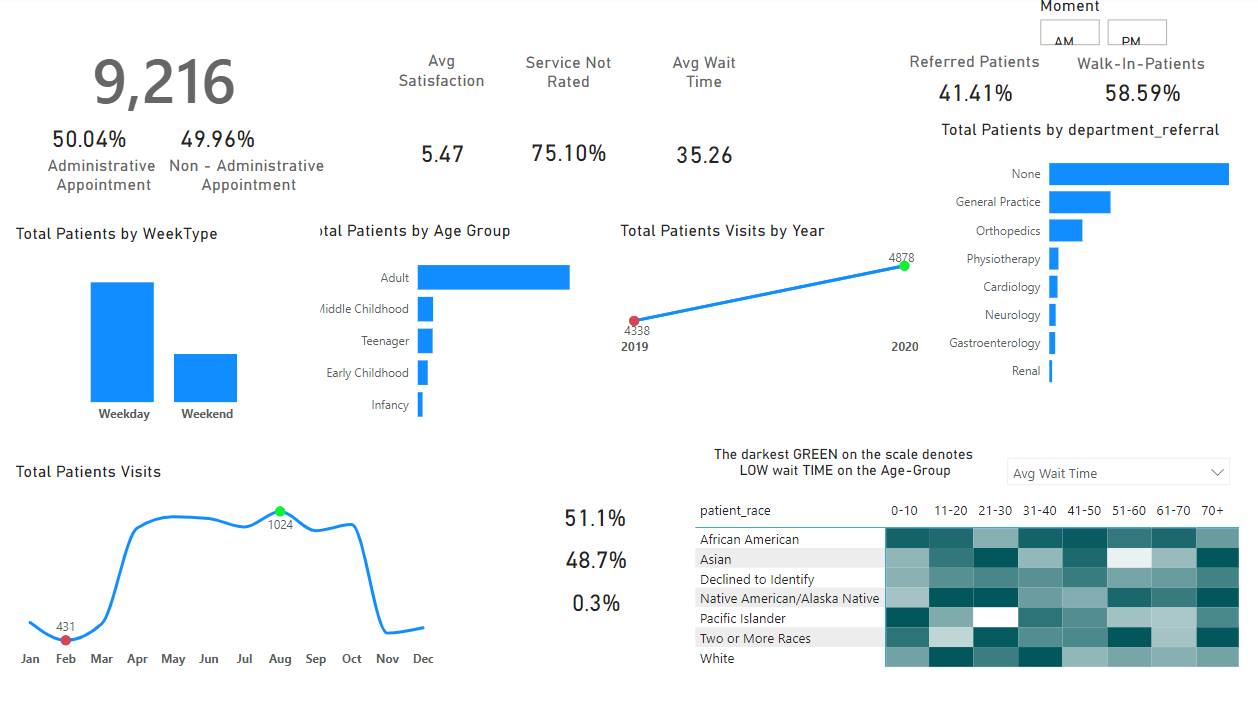

What the dashboard file says about the page in this screenshot:
{"tool":"powerbi","page":{"name":"Patients Emergency Room Visit Report","canvas":[1280,720],"ordinal":0},"visuals":[{"type":"card","fields":{"Values":["Calculations Table.Total Patients"]},"box":[80.3,56,262,113.6],"z":0},{"type":"card","fields":{"Values":["Calculations Table.% Non - Administrative Schedule"]},"box":[243.8,137.8,118.1,48.5],"z":1000},{"type":"card","fields":{"Values":["Calculations Table.% Administrative Schedule"]},"box":[65.1,137.8,121.1,48.5],"z":2000},{"type":"pivotTable","fields":{"Values":["Calculations Table.Average Satisfaction Score"],"Rows":["Patient Dataset.patient_race"],"Columns":["Patient Dataset.Age Bucket"]},"box":[705.6,481.5,573.9,228.6],"z":3000},{"type":"slicer","fields":{"Values":["Avg SAT Score/ Wait Time Parameter.Avg SAT Score/ Wait Time Parameter"]},"box":[1059.9,427,196.8,46.9],"z":4000},{"type":"clusteredBarChart","fields":{"Category":["Patient Dataset.Age Group"],"Y":["Calculations Table.Total Patients"]},"box":[274.1,266.5,278.6,177.2],"z":5000},{"type":"lineChart","title":"Total Patients Visits","fields":{"Category":["Date.Month"],"Y":["Calculations Table.Total Patients","Calculations Table.Value Max_Min Line"]},"box":[39.4,481.5,437.6,218],"z":6000},{"type":"advancedSlicerVisual","fields":{"Values":["Patient Dataset.Moment"]},"box":[1019.1,0,243.8,51.5],"z":7000},{"type":"lineChart","title":"Total Patients Visits by Year","fields":{"Category":["Date.Year"],"Y":["Calculations Table.Total Patients","Calculations Table.Value Max_Min Line (Year)"]},"box":[586,263.5,283.2,136.3],"z":8000},{"type":"card","fields":{"Values":["Calculations Table.% Registered Dept Referrels"]},"box":[941.8,86.3,106,37.9],"z":9000},{"type":"card","fields":{"Values":["Calculations Table.% UnRegistered Dept Referrels"]},"box":[1110,91.1,106.9,34],"z":10000},{"type":"textbox","box":[51.5,178.7,148.4,53],"z":11000},{"type":"textbox","box":[212,181.7,181.7,50],"z":12000},{"type":"textbox","box":[914.9,51.8,150.6,45.3],"z":13000},{"type":"textbox","box":[1082.7,53,163.5,34.8],"z":14000},{"type":"card","title":"Avg Satisfaction","fields":{"Values":["Calculations Table.Average Satisfaction Score"]},"box":[446.7,119.6,113.6,86.3],"z":15000},{"type":"card","title":"Service Not Rated","fields":{"Values":["Calculations Table.% No Rating"]},"box":[598.1,116.6,115.1,86.3],"z":16000},{"type":"card","title":"Avg Wait Time","fields":{"Values":["Calculations Table.Average Wait Time"]},"box":[748,119.6,121.1,92.4],"z":17000},{"type":"clusteredColumnChart","fields":{"Y":["Calculations Table.Total Patients"],"Category":["Date.WeekType"]},"box":[36.3,263.5,237.7,180.2],"z":18000},{"type":"card","fields":{"Values":["Calculations Table.HeatMap Caption"]},"box":[701.1,414.9,307.4,74.2],"z":19000},{"type":"clusteredBarChart","fields":{"Y":["Calculations Table.Total Patients"],"Category":["Patient Dataset.department_referral"]},"box":[914.6,162,342.2,227.1],"z":20000},{"type":"card","fields":{"Values":["Calculations Table.% Male Visit"]},"box":[573.9,592.1,106,42.4],"z":21000},{"type":"card","fields":{"Values":["Calculations Table.% Female Visit"]},"box":[570.9,522.4,106,43.9],"z":22000},{"type":"card","fields":{"Values":["Calculations Table.% Others Visit"]},"box":[569.3,657.2,106,43.9],"z":23000},{"type":"textbox","box":[81.8,54.5,260.4,43.9],"z":24000},{"type":"textbox","box":[533,472.4,157.5,36.3],"z":25000},{"type":"textbox","box":[598.1,508.8,54.5,42.4],"z":26000},{"type":"textbox","box":[596.6,575.4,75.7,42.4],"z":27000},{"type":"textbox","box":[595.1,639,81.8,28.8],"z":28000},{"type":"textbox","box":[1008.5,436.1,59.1,28.8],"z":29000},{"type":"PBI_CV_25997FEB_F466_44FA_B562_AC4063283C4C","fields":{"measure":["Calculations Table.Average Satisfaction Score"],"axis":["Date.Month"]},"box":[448.2,186.2,110.5,50],"z":30000},{"type":"PBI_CV_25997FEB_F466_44FA_B562_AC4063283C4C","fields":{"axis":["Date.Month"],"measure":["Calculations Table.% No Rating"]},"box":[602.7,186.2,110.5,50],"z":31000},{"type":"PBI_CV_25997FEB_F466_44FA_B562_AC4063283C4C","fields":{"axis":["Date.Month"],"measure":["Calculations Table.Average Wait Time"]},"box":[749.5,183.2,110.5,50],"z":32000},{"type":"textbox","box":[59.1,0,576.9,74.2],"z":33000}]}

Visuals, with their boxes in screenshot pixels (x1, y1, x2, y2), scaled from the page's 1280x720 canvas onto the 1258x706 screenshot:
card - Calculations Table.Total Patients: left=79, top=55, right=336, bottom=166
card - Calculations Table.% Non - Administrative Schedule: left=240, top=135, right=356, bottom=183
card - Calculations Table.% Administrative Schedule: left=64, top=135, right=183, bottom=183
pivotTable - Calculations Table.Average Satisfaction Score x Patient Dataset.patient_race: left=693, top=472, right=1257, bottom=696
slicer - Avg SAT Score/ Wait Time Parameter.Avg SAT Score/ Wait Time Parameter: left=1042, top=419, right=1235, bottom=465
clusteredBarChart - Patient Dataset.Age Group x Calculations Table.Total Patients: left=269, top=261, right=543, bottom=435
"Total Patients Visits" lineChart: left=39, top=472, right=469, bottom=686
advancedSlicerVisual - Patient Dataset.Moment: left=1002, top=0, right=1241, bottom=50
"Total Patients Visits by Year" lineChart: left=576, top=258, right=854, bottom=392
card - Calculations Table.% Registered Dept Referrels: left=926, top=85, right=1030, bottom=122
card - Calculations Table.% UnRegistered Dept Referrels: left=1091, top=89, right=1196, bottom=123
textbox: left=51, top=175, right=196, bottom=227
textbox: left=208, top=178, right=387, bottom=227
textbox: left=899, top=51, right=1047, bottom=95
textbox: left=1064, top=52, right=1225, bottom=86
"Avg Satisfaction" card: left=439, top=117, right=551, bottom=202
"Service Not Rated" card: left=588, top=114, right=701, bottom=199
"Avg Wait Time" card: left=735, top=117, right=854, bottom=208
clusteredColumnChart - Calculations Table.Total Patients x Date.WeekType: left=36, top=258, right=269, bottom=435
card - Calculations Table.HeatMap Caption: left=689, top=407, right=991, bottom=480
clusteredBarChart - Calculations Table.Total Patients x Patient Dataset.department_referral: left=899, top=159, right=1235, bottom=382
card - Calculations Table.% Male Visit: left=564, top=581, right=668, bottom=622
card - Calculations Table.% Female Visit: left=561, top=512, right=665, bottom=555
card - Calculations Table.% Others Visit: left=560, top=644, right=664, bottom=687
textbox: left=80, top=53, right=336, bottom=96
textbox: left=524, top=463, right=679, bottom=499
textbox: left=588, top=499, right=641, bottom=540
textbox: left=586, top=564, right=661, bottom=606
textbox: left=585, top=627, right=665, bottom=655
textbox: left=991, top=428, right=1049, bottom=456
PBI_CV_25997FEB_F466_44FA_B562_AC4063283C4C - Calculations Table.Average Satisfaction Score x Date.Month: left=440, top=183, right=549, bottom=232
PBI_CV_25997FEB_F466_44FA_B562_AC4063283C4C - Date.Month x Calculations Table.% No Rating: left=592, top=183, right=701, bottom=232
PBI_CV_25997FEB_F466_44FA_B562_AC4063283C4C - Date.Month x Calculations Table.Average Wait Time: left=737, top=180, right=845, bottom=229
textbox: left=58, top=0, right=625, bottom=73
